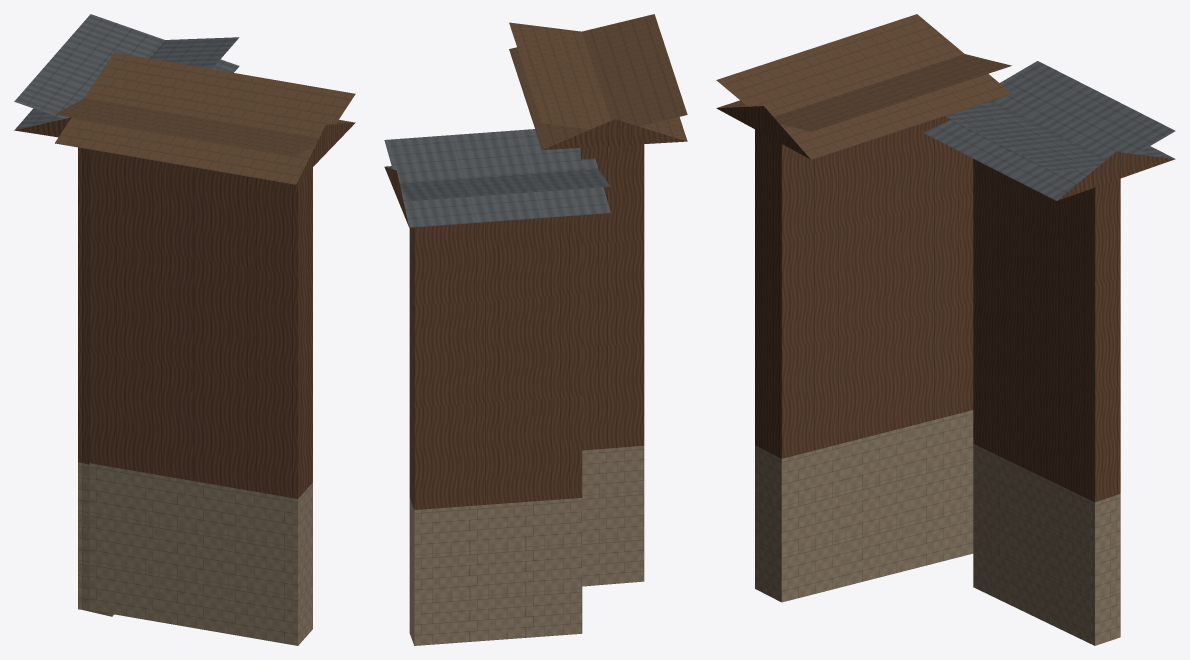
The model's file is bld_c3_-3_560.gltf.
3 renders of one model, left to right at view 1: azimuth 30°, elevation 25°; view 2: azimuth 150°, elevation 25°; view 3: azimuth 270°, elevation 25°, orthographic. The views are drawn at different scales.
Visible parts, largest first — view 1: bld_c3_-3_560; view 2: bld_c3_-3_560; view 3: bld_c3_-3_560.
Part boxes in pixels (x1=…): bld_c3_-3_560: x1=14, y1=14, x2=355, y2=645; bld_c3_-3_560: x1=384, y1=14, x2=687, y2=645; bld_c3_-3_560: x1=716, y1=14, x2=1175, y2=645.
Bounding box in the file's own units: 9.32 × 18.9 × 14.8.
5 materials, 5 textured.
